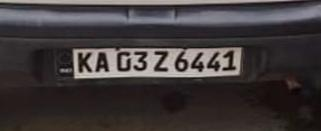0: (115, 47, 132, 74)
1: (222, 47, 237, 72)
3: (133, 50, 148, 73)
4: (206, 48, 222, 74), (191, 48, 205, 72)
6: (174, 47, 188, 74)
A: (93, 50, 109, 75)
K: (76, 48, 94, 76)
Z: (151, 50, 171, 74)
